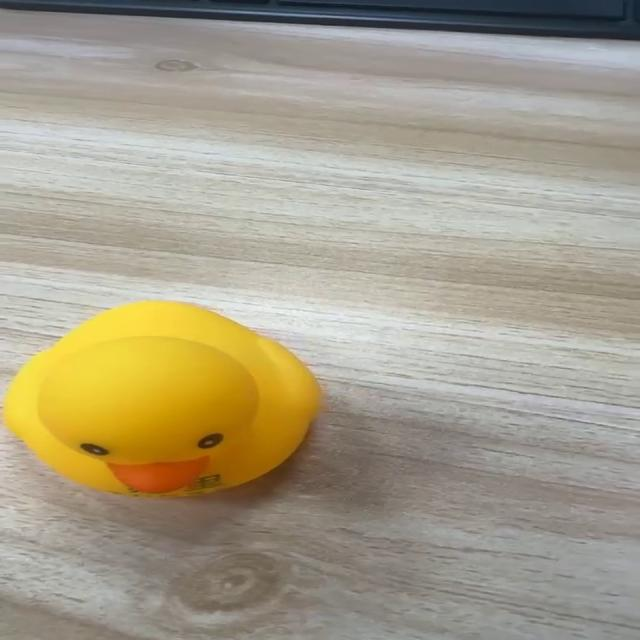yellow_duck: (2, 298, 322, 499)
